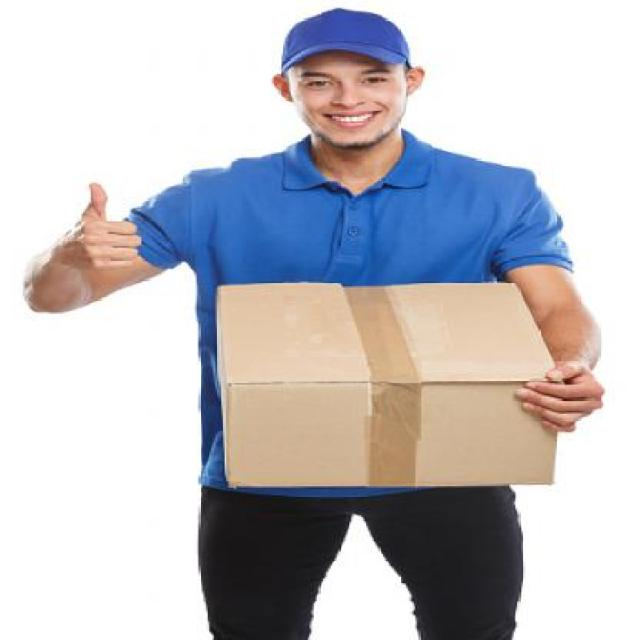cardboxes: (215, 280, 574, 494)
